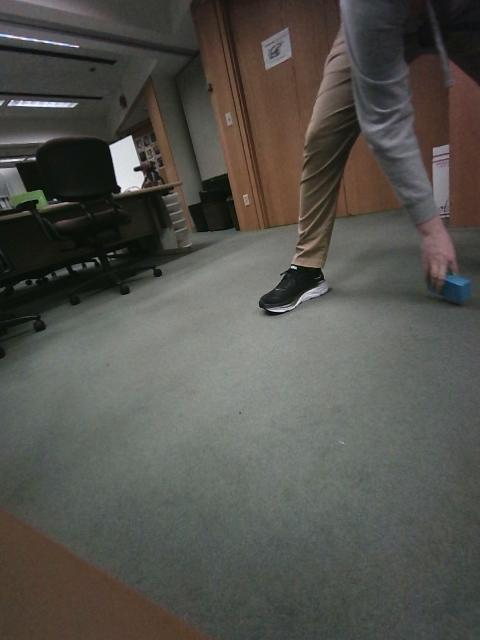block: (138, 305, 168, 336)
